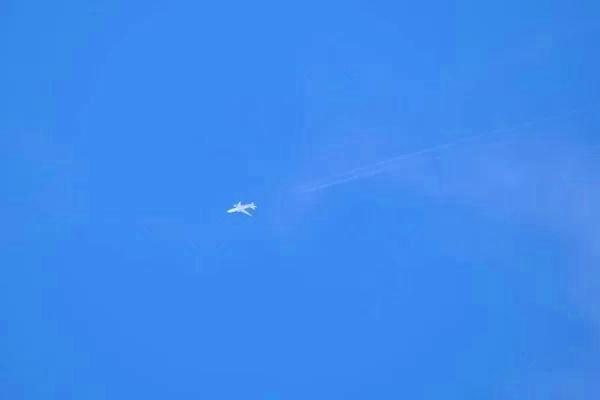Plane: (211, 192, 271, 225)
